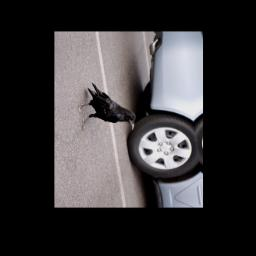Crow: (75, 78, 139, 135)
